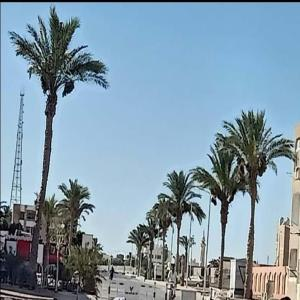palm tree: (6, 3, 110, 288), (214, 107, 295, 299), (189, 141, 248, 289), (157, 169, 204, 280), (146, 198, 174, 280), (126, 225, 150, 276)
